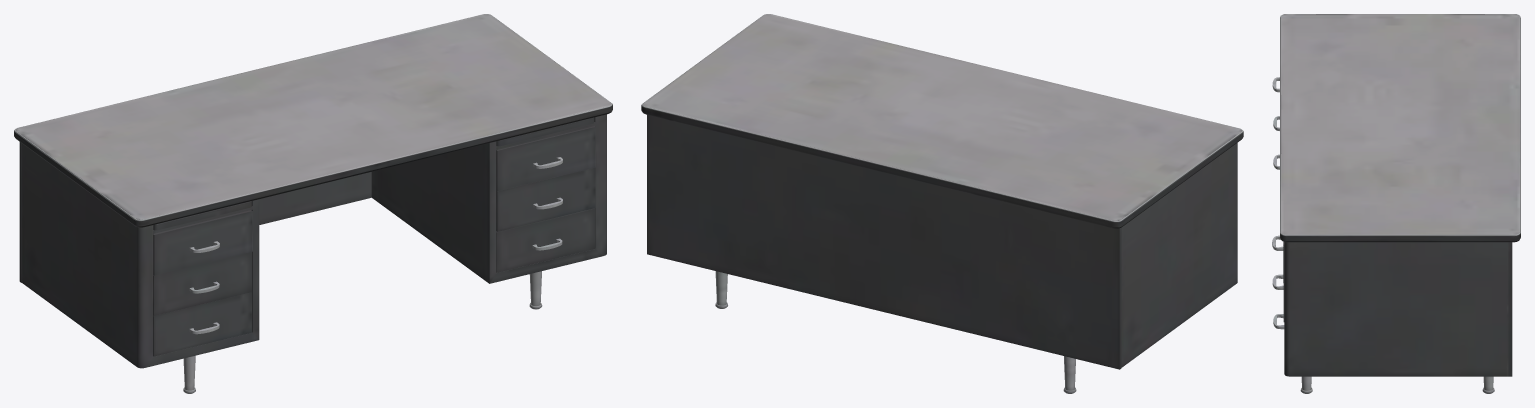
File: metal_office_desk.glb
3 renders of one model, left to right at view 1: azimuth 30°, elevation 25°; view 2: azimuth 150°, elevation 25°; view 3: azimuth 270°, elevation 25°, orthographic. The views are drawn at different scales.
Parts seen in each view (by area): view 1: metal_office_desk_drawer_06; view 2: metal_office_desk_drawer_06; view 3: metal_office_desk_drawer_06.
Boxes of the visible parts, x1,y1,x2,y2 form: metal_office_desk_drawer_06: (14, 14, 612, 393); metal_office_desk_drawer_06: (641, 14, 1243, 393); metal_office_desk_drawer_06: (1272, 14, 1520, 393).
Size of the model in its own units: 2 by 0.7874 by 0.9471.
Materials: 1 (1 with a texture image).
